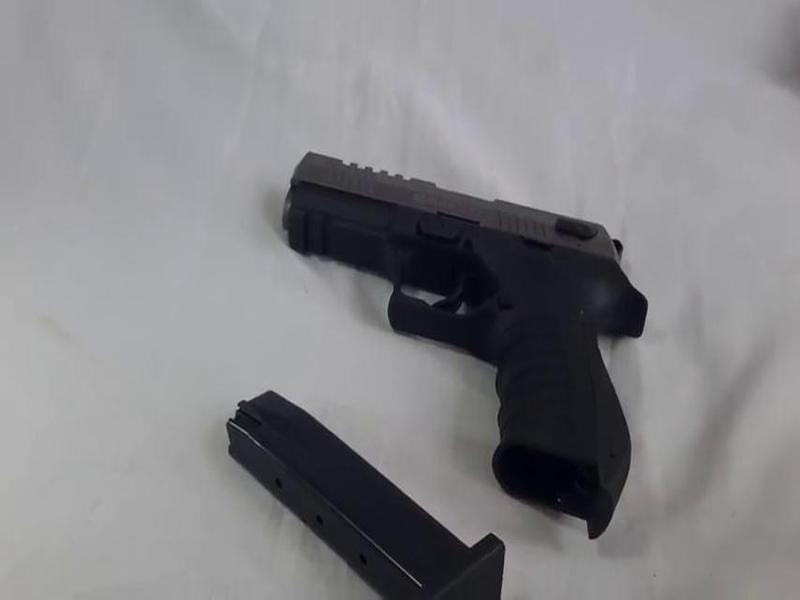Pistola: (280, 146, 652, 527)
